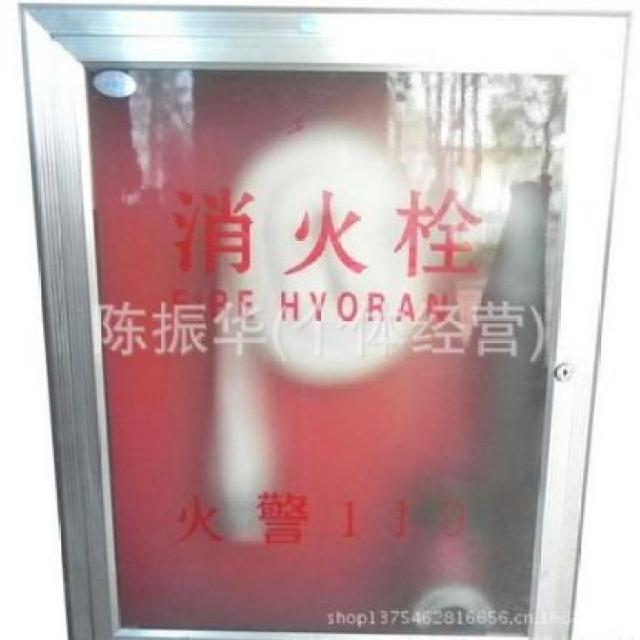firehydrant: (14, 0, 634, 640)
